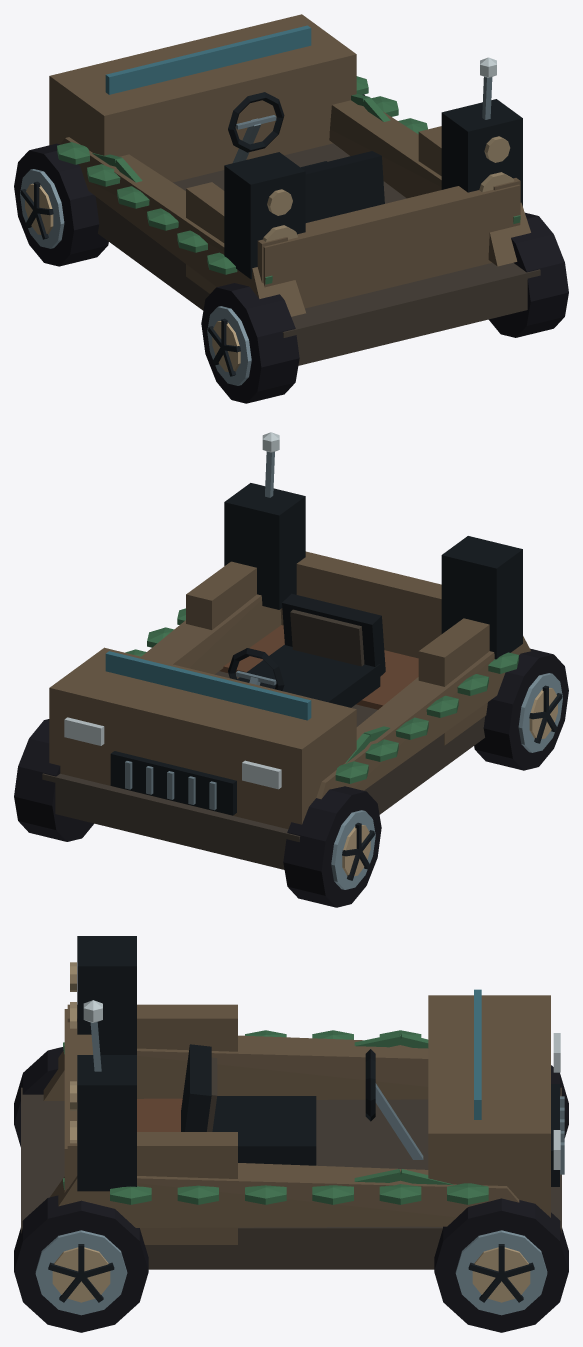
Rendered from kart.glb.
3 renders of one model, top to bottom at view 1: azimuth 30°, elevation 25°; view 2: azimuth 150°, elevation 25°; view 3: azimuth 270°, elevation 25°, orthographic. The views are drawn at different scales.
Parts seen in each view (by area): view 1: identity-truck-truck-utility-body, identity-truck-motif-speakers, wheel-rear-left, wheel-front-left, identity-truck-driver-cockpit, identity-truck-motif-vines, wheel-rear-right, identity-truck-motif-antenna; view 2: identity-truck-truck-utility-body, identity-truck-motif-speakers, identity-truck-driver-cockpit, wheel-front-left, wheel-rear-left, wheel-front-right, identity-truck-motif-vines, identity-truck-motif-antenna; view 3: identity-truck-truck-utility-body, identity-truck-motif-speakers, wheel-front-right, wheel-rear-right, identity-truck-driver-cockpit, identity-truck-motif-vines, wheel-rear-left, identity-truck-motif-antenna.
Part boxes in pixels (x1,y1,x2,y2): identity-truck-truck-utility-body: [49, 14, 540, 365]; identity-truck-motif-speakers: [224, 99, 522, 278]; wheel-rear-left: [201, 283, 299, 403]; wheel-front-left: [14, 143, 108, 266]; identity-truck-driver-cockpit: [228, 92, 384, 222]; identity-truck-motif-vines: [57, 76, 520, 284]; wheel-rear-right: [488, 212, 568, 337]; identity-truck-motif-antenna: [480, 57, 496, 119]; identity-truck-truck-utility-body: [42, 551, 530, 869]; identity-truck-motif-speakers: [224, 483, 522, 659]; identity-truck-driver-cockpit: [228, 593, 385, 707]; wheel-front-left: [283, 786, 381, 907]; wheel-rear-left: [474, 648, 568, 770]; wheel-front-right: [14, 719, 93, 841]; identity-truck-motif-vines: [125, 608, 518, 783]; identity-truck-motif-antenna: [262, 432, 279, 497]; identity-truck-truck-utility-body: [21, 989, 564, 1269]; identity-truck-motif-speakers: [70, 936, 136, 1191]; wheel-front-right: [434, 1198, 568, 1332]; wheel-rear-right: [14, 1195, 148, 1332]; identity-truck-driver-cockpit: [181, 1044, 423, 1165]; identity-truck-motif-vines: [63, 1030, 488, 1204]; wheel-rear-left: [14, 1047, 63, 1146]; identity-truck-motif-antenna: [83, 1000, 102, 1071].
Size of the model in its own units: 2.13 by 1.72 by 2.8.
